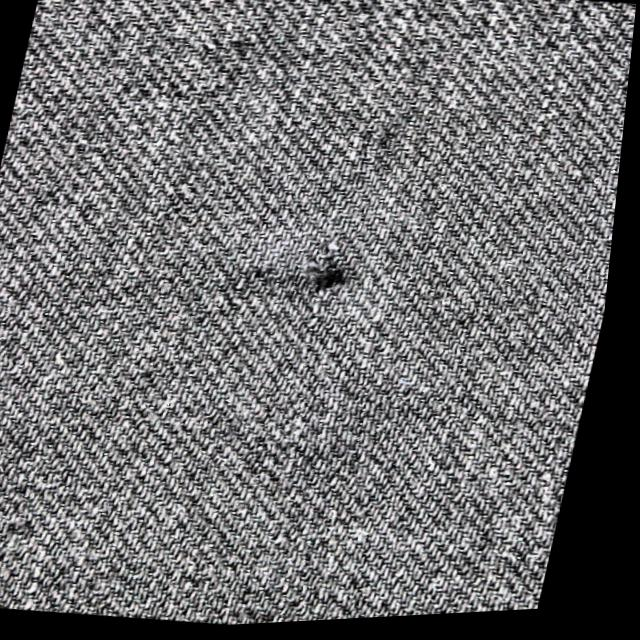Hole: (278, 237, 393, 316)
